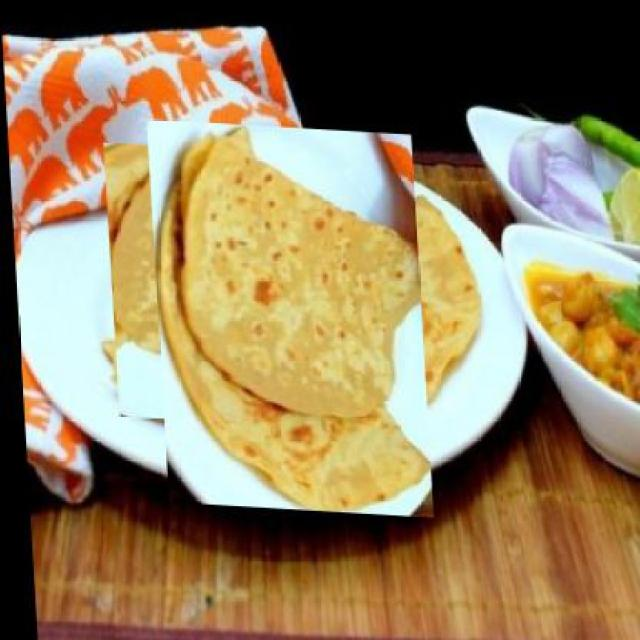chapati: (116, 146, 458, 486), (101, 141, 387, 430)
